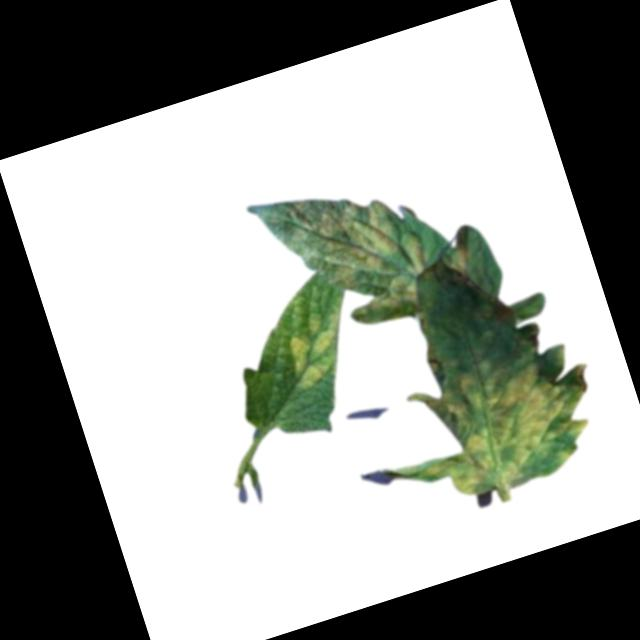Leaf_Mold: (402, 332, 616, 509), (286, 180, 428, 306), (279, 307, 357, 391), (346, 270, 422, 325), (447, 243, 474, 274)
